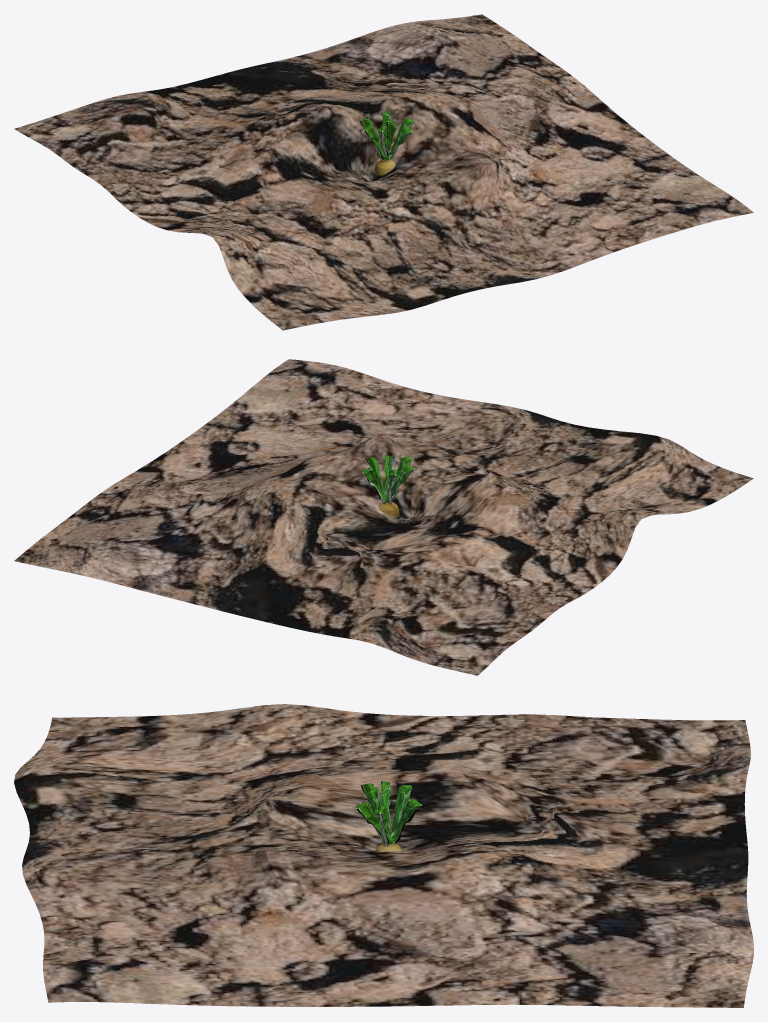
File: Parnship.glb
3 renders of one model, top to bottom at view 1: azimuth 30°, elevation 25°; view 2: azimuth 150°, elevation 25°; view 3: azimuth 270°, elevation 25°, orthographic. The views are drawn at different scales.
Parts seen in each view (by area): view 1: Plane; view 2: Plane; view 3: Plane.
Part boxes in pixels (<box>): Plane: <box>14,14,753,330</box>; Plane: <box>14,359,753,675</box>; Plane: <box>14,704,753,1007</box>.
Size of the model in its own units: 36.21 by 6.13 by 38.67.
Materials: 9 (9 with a texture image).
